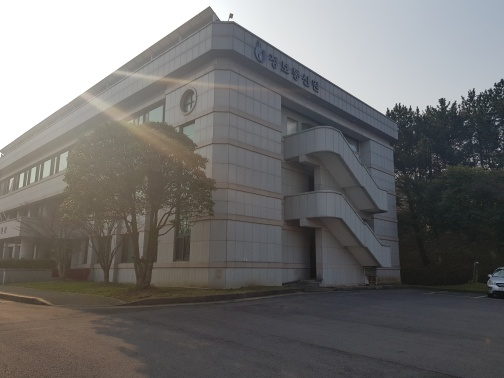Information Telecommunication Center: (1, 31, 443, 284), (237, 36, 349, 104)
